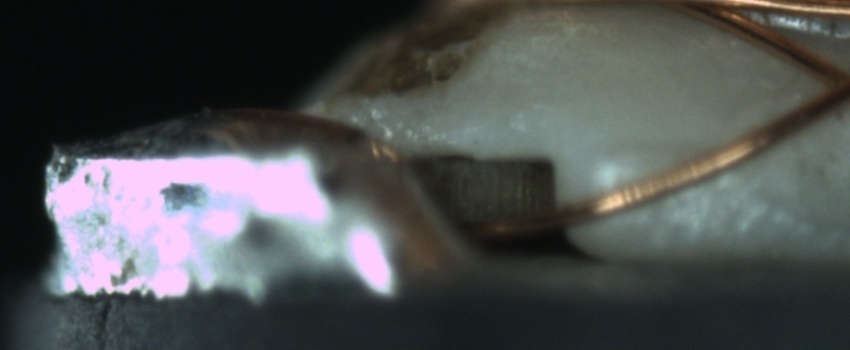CL: (804, 52, 850, 117)
DL: (595, 112, 729, 177)
